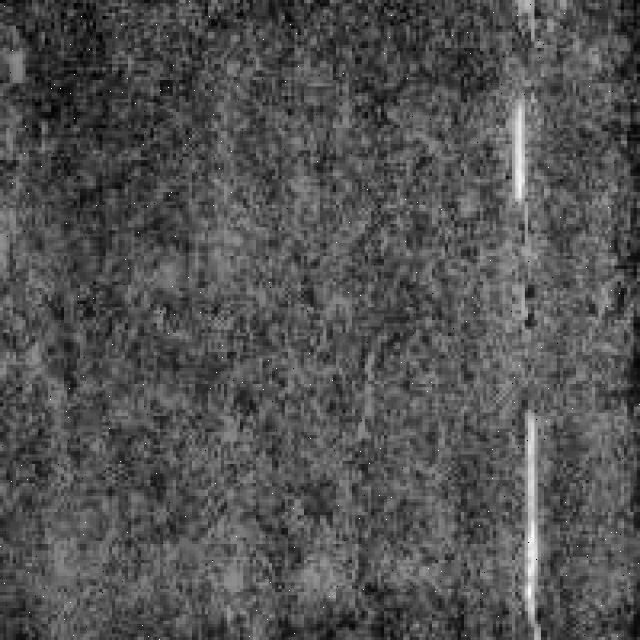Inclusion: (512, 401, 563, 634), (509, 93, 544, 208)
